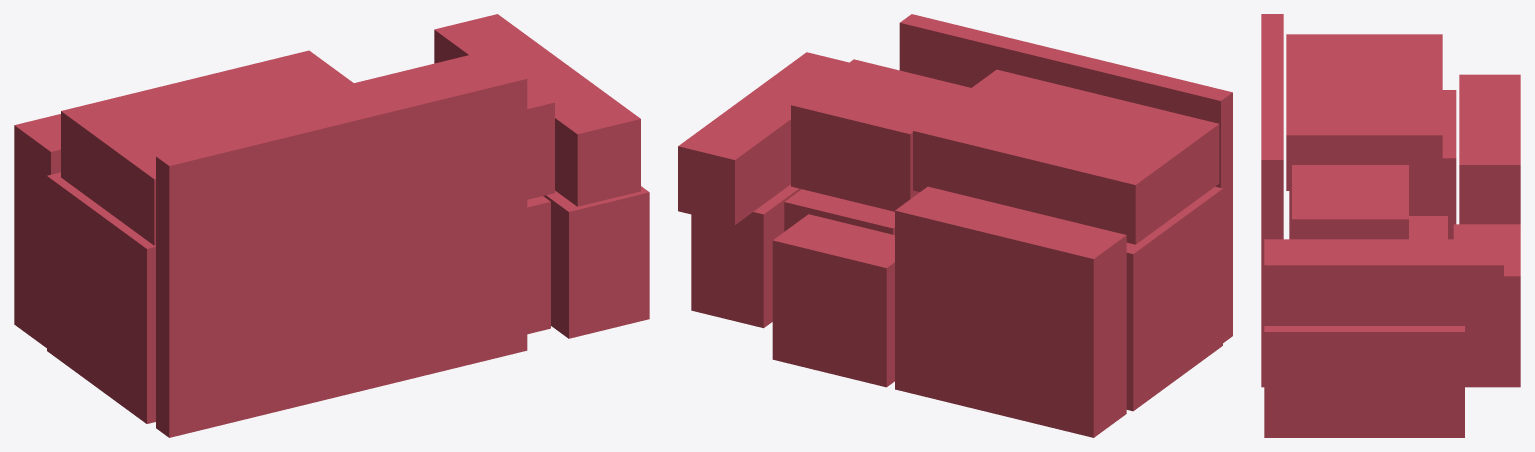
File: 11Newgifts.glb
3 renders of one model, left to right at view 1: azimuth 30°, elevation 25°; view 2: azimuth 150°, elevation 25°; view 3: azimuth 270°, elevation 25°, orthographic. The views are drawn at different scales.
Parts seen in each view (by area): view 1: Gift7, Gift2, Gift5, Gift1, Gift3, Gift6, Gift11, Gift4; view 2: Gift6, Gift2, Gift10, Gift11, Gift7, Gift5, Gift1, Gift3, Gift4; view 3: Gift3, Gift2, Gift1, Gift6, Gift11, Gift10, Gift7, Gift5, Gift9.
Part boxes in pixels (bbox=[...]): Gift7: bbox=[156, 69, 527, 437]; Gift2: bbox=[61, 50, 378, 245]; Gift5: bbox=[47, 172, 155, 423]; Gift1: bbox=[434, 14, 640, 206]; Gift3: bbox=[543, 186, 649, 338]; Gift6: bbox=[14, 114, 60, 347]; Gift11: bbox=[354, 51, 554, 199]; Gift4: bbox=[527, 196, 550, 334]; Gift6: bbox=[895, 186, 1126, 437]; Gift2: bbox=[913, 69, 1219, 244]; Gift10: bbox=[772, 214, 894, 387]; Gift11: bbox=[791, 59, 970, 211]; Gift7: bbox=[899, 14, 1232, 342]; Gift5: bbox=[1126, 186, 1222, 411]; Gift1: bbox=[678, 52, 848, 224]; Gift3: bbox=[691, 184, 801, 328]; Gift4: bbox=[784, 189, 894, 234]; Gift3: bbox=[1264, 326, 1464, 437]; Gift2: bbox=[1286, 34, 1442, 190]; Gift1: bbox=[1264, 239, 1503, 325]; Gift6: bbox=[1459, 74, 1520, 224]; Gift11: bbox=[1292, 165, 1408, 239]; Gift10: bbox=[1453, 224, 1520, 387]; Gift7: bbox=[1261, 14, 1283, 387]; Gift5: bbox=[1289, 90, 1456, 239]; Gift9: bbox=[1409, 216, 1447, 239].
Size of the model in its own units: 0.0423 by 0.0225 by 0.0233.
